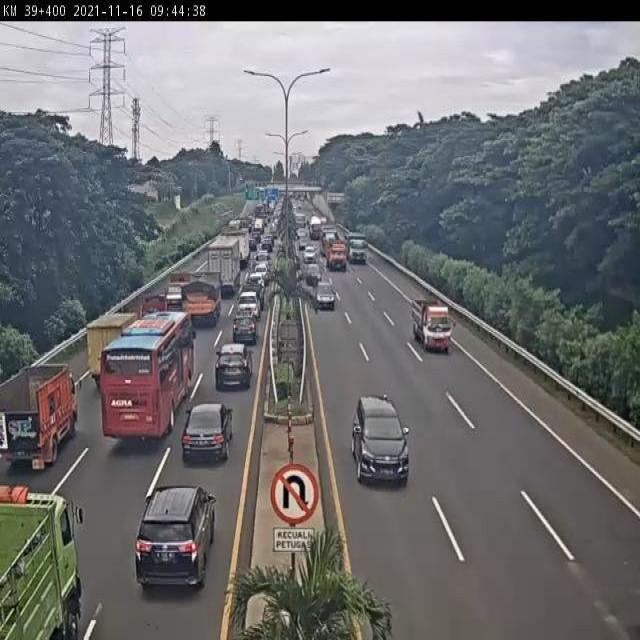big bus: (102, 313, 191, 436)
car: (135, 488, 215, 593), (352, 395, 410, 488), (182, 407, 233, 468), (213, 348, 252, 396), (313, 275, 337, 313), (232, 316, 255, 347), (240, 285, 262, 316), (244, 270, 263, 290)
truck-l-: (206, 241, 241, 296)
truck-m-: (0, 368, 77, 467), (85, 315, 137, 384), (179, 276, 220, 329), (412, 300, 452, 352), (162, 273, 192, 312), (137, 292, 167, 329)
